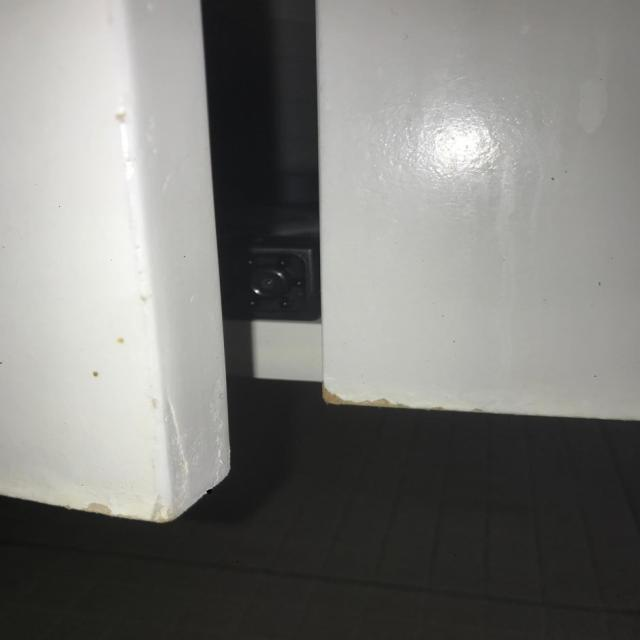hidden camera: (251, 271, 286, 296)
